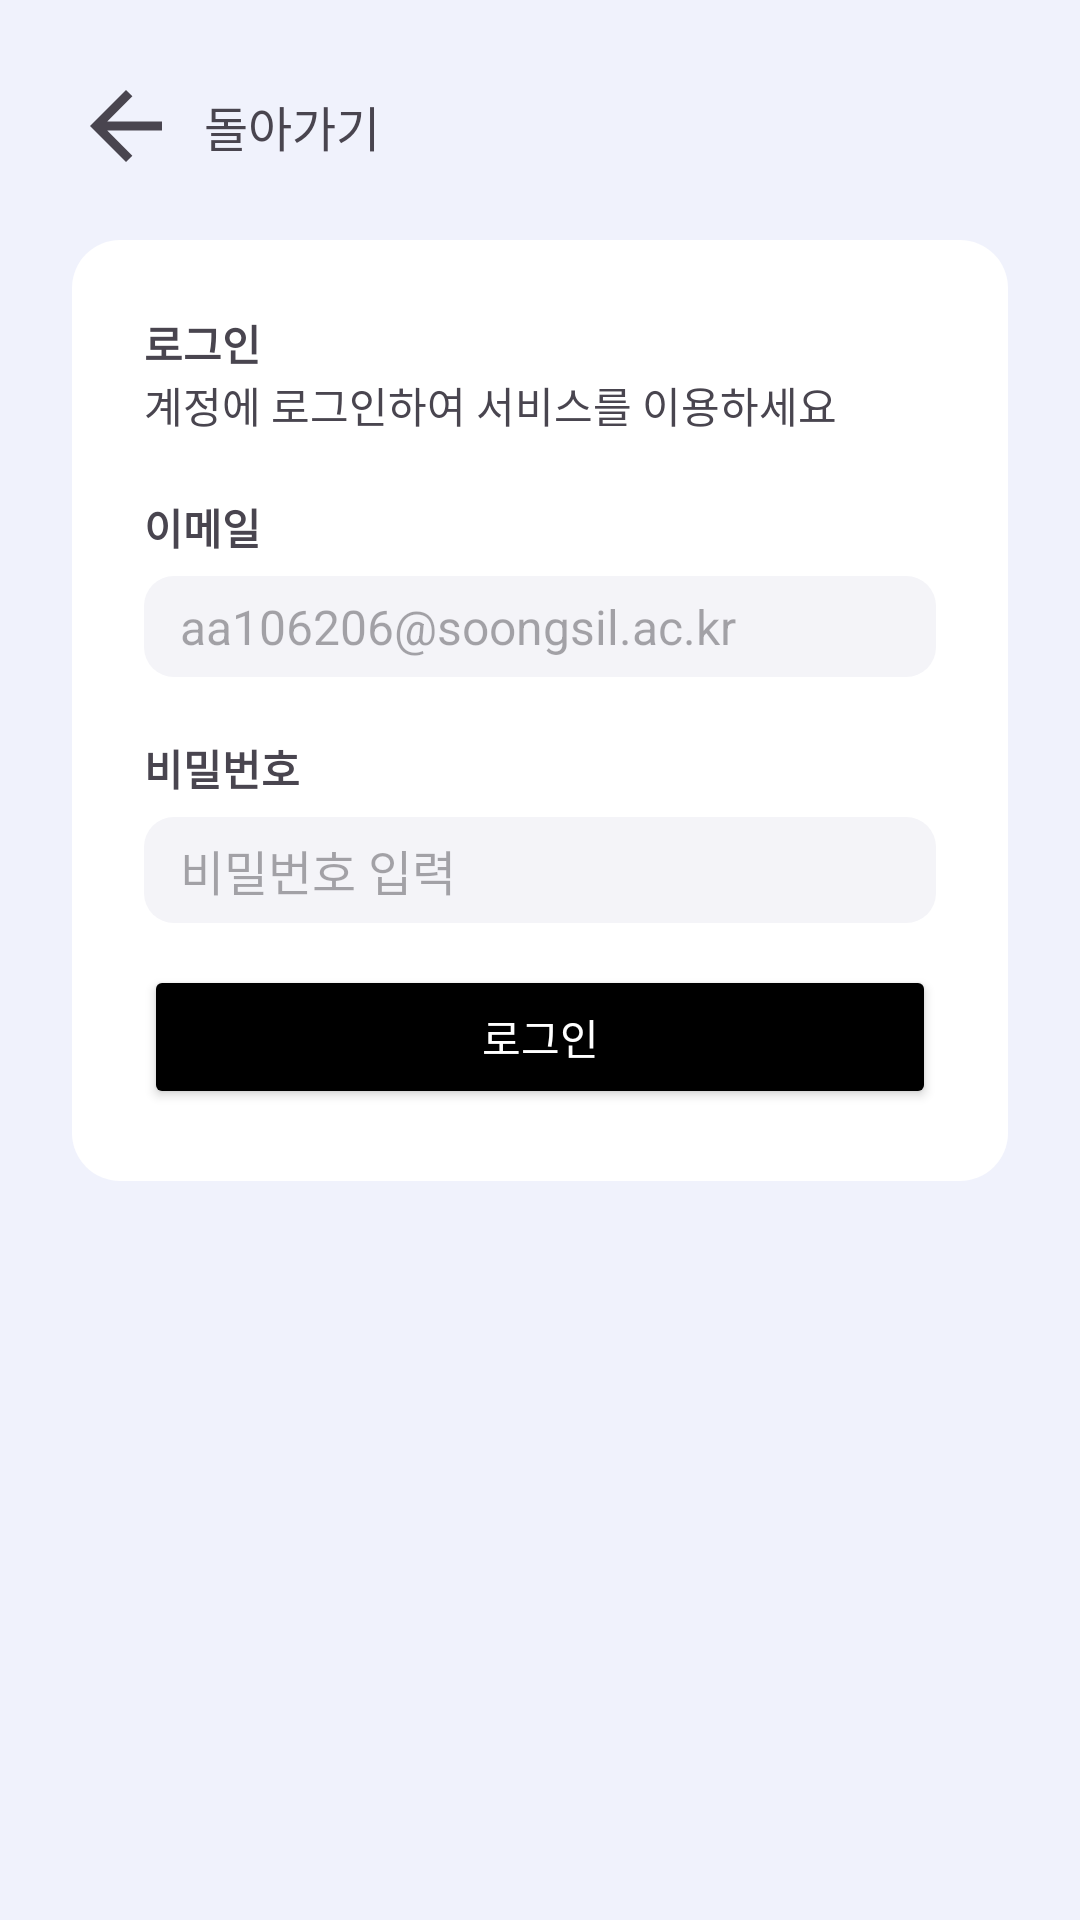

Point at icon controls on the screen. Image size 1080 x 1920, points as (x,y).
left arrow: (126,126)
